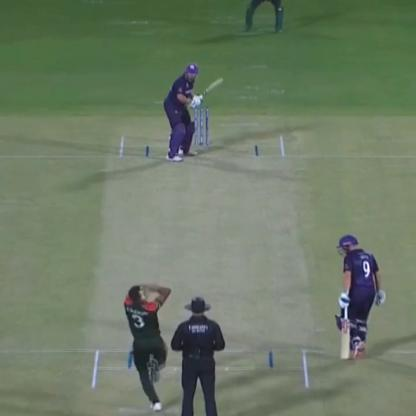ball: (134, 282, 150, 298)
bat: (195, 72, 229, 102)
pitch: (85, 133, 314, 399)
